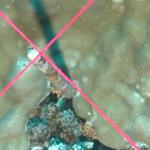alive: (4, 5, 147, 146)
